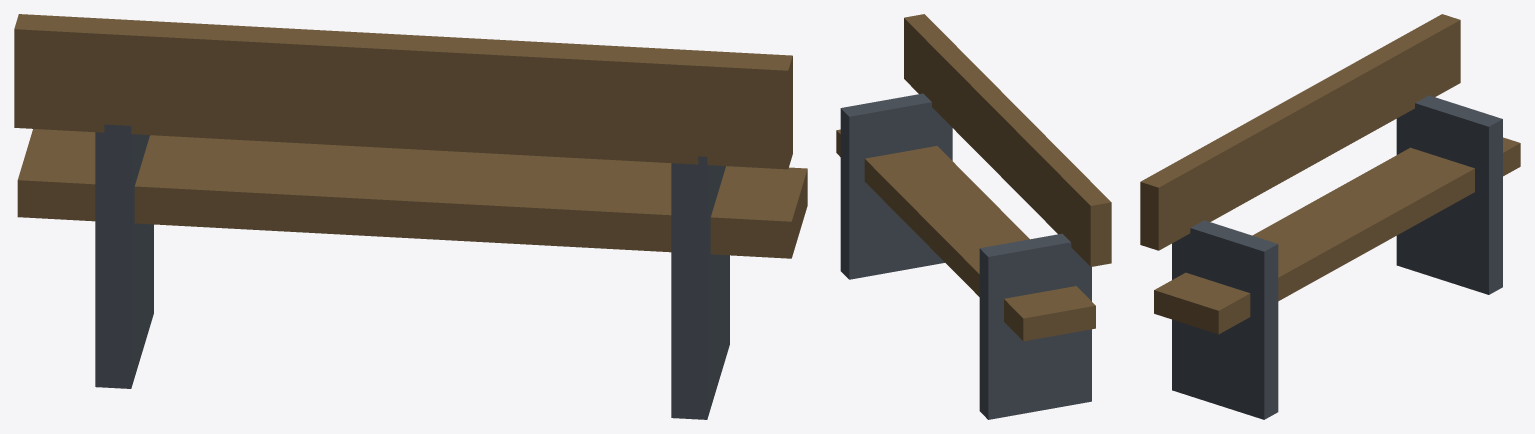
The model's file is cell--540_-360.glb.
The picture shows the model from 3 angles, left to right: view 1: azimuth 30°, elevation 25°; view 2: azimuth 150°, elevation 25°; view 3: azimuth 270°, elevation 25°; orthographic projection. The views are drawn at different scales.
Visible parts, largest first — view 1: cell--540_-360; view 2: cell--540_-360; view 3: cell--540_-360.
Boxes of the visible parts, x1,y1,x2,y2 form: cell--540_-360: (14, 14, 807, 419); cell--540_-360: (836, 14, 1111, 419); cell--540_-360: (1140, 14, 1520, 419).
Bounding box in the file's own units: 0.7875 × 0.43 × 0.6558.
